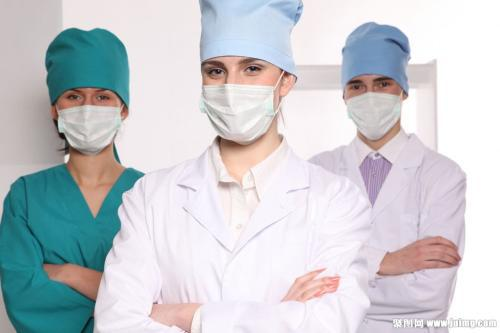mask: (194, 81, 281, 145), (53, 102, 125, 154), (341, 86, 403, 140)
